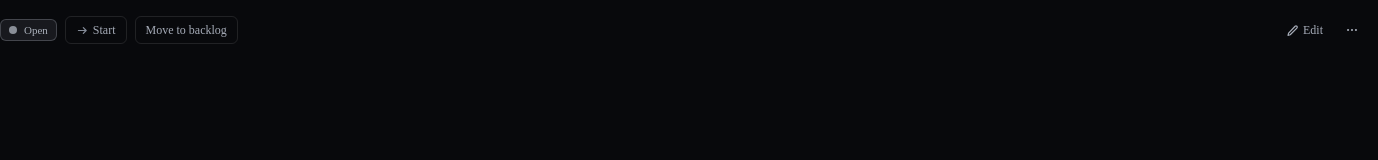
TaskHeader admin status override › non-admin gets a disabled menu entry with the reason and no status picker
Expected: the text "Only project admins can override task status" is not shown
Click the button named "More actions" at x=1352, y=30, box [1338,16,1366,44]
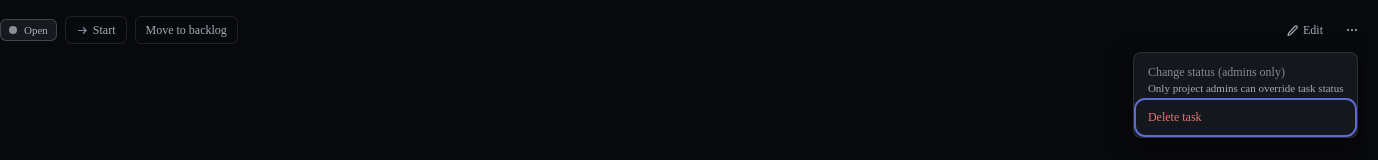
Expected: the button "Change status (admins only)" is disabled, [1138,57,1353,102]
Expected: the text "Only project admins can override task status" is shown, [1148,82,1343,94]
